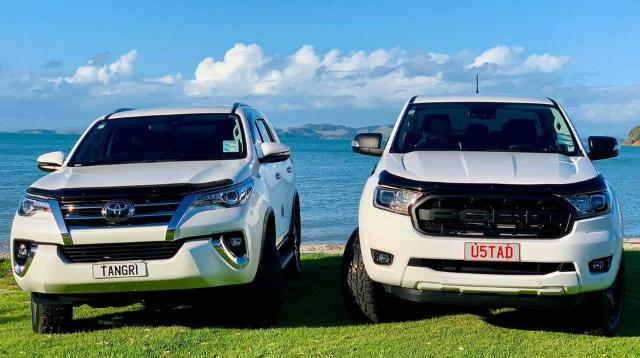Rego: (466, 242, 521, 260), (93, 262, 147, 278)
